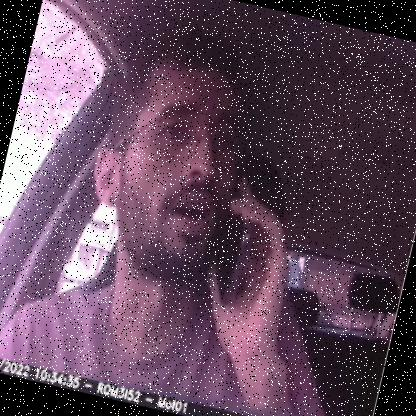phone: (195, 160, 280, 323)
